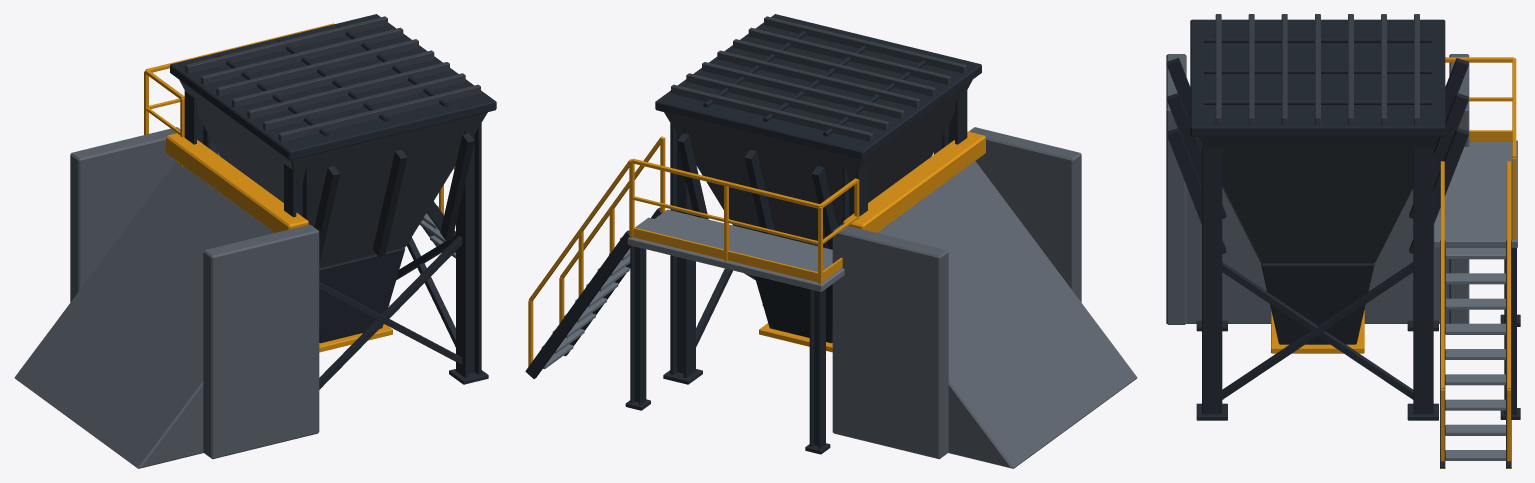
The model's file is feeder_bin_bn101.glb.
3 renders of one model, left to right at view 1: azimuth 30°, elevation 25°; view 2: azimuth 150°, elevation 25°; view 3: azimuth 270°, elevation 25°, orthographic. The views are drawn at different scales.
Parts seen in each view (by area): view 1: BN101_BraceE_DiagA; view 2: BN101_BraceE_DiagA; view 3: BN101_BraceE_DiagA.
Boxes of the visible parts, x1,y1,x2,y2 form: BN101_BraceE_DiagA: (14,14,496,468); BN101_BraceE_DiagA: (525,14,1137,468); BN101_BraceE_DiagA: (1166,14,1520,468).
Bounding box in the file's own units: 6.14 × 3.65 × 3.86.
Materials: 1 (1 with a texture image).
